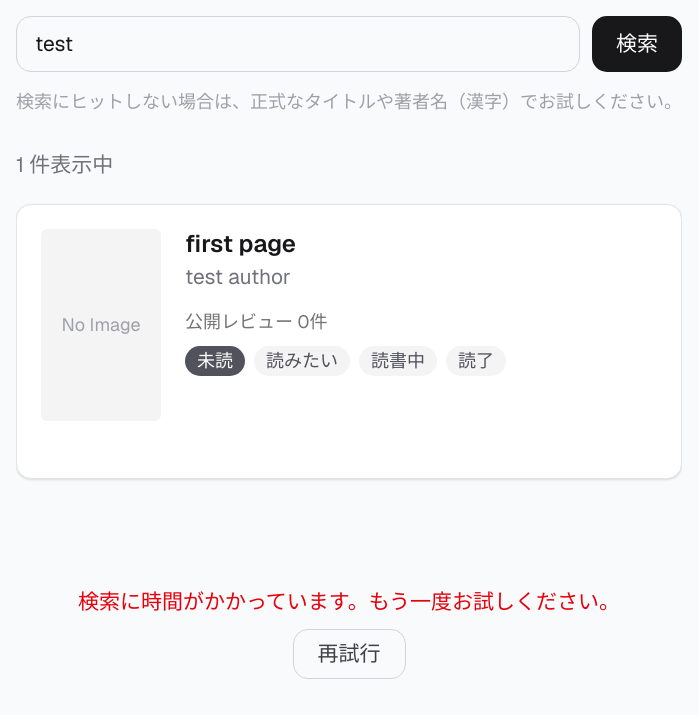
it: additional page timeout keeps results and offers a forced retry
The width and height of the screenshot is (699, 715).
(page scrolled)
Expected: the heading "first page" is shown, [185, 228, 296, 259]
Expected: the text "検索に時間がかかっています。もう一度お試しください。" is shown, [78, 587, 620, 617]
Click the button "再試行" at (349, 654), box [292, 629, 406, 679]
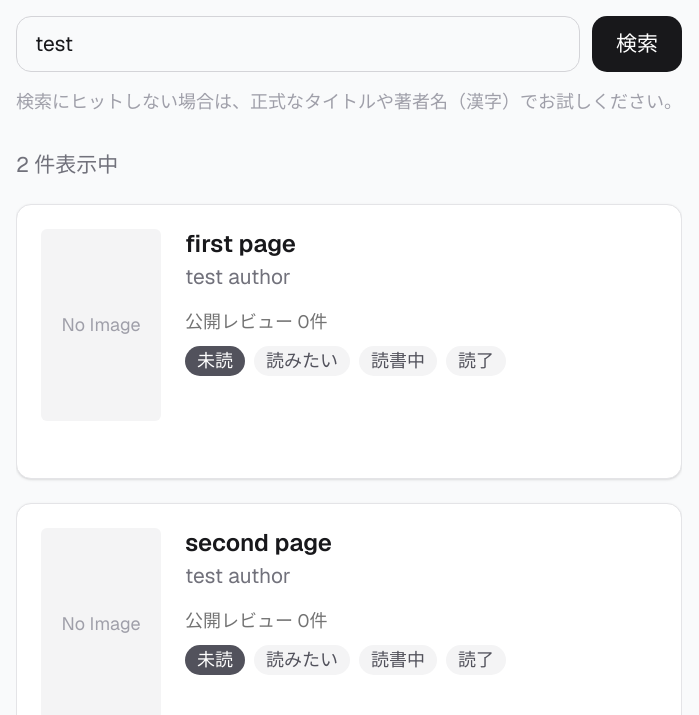
Expected: the heading "second page" is shown, [185, 527, 332, 558]
